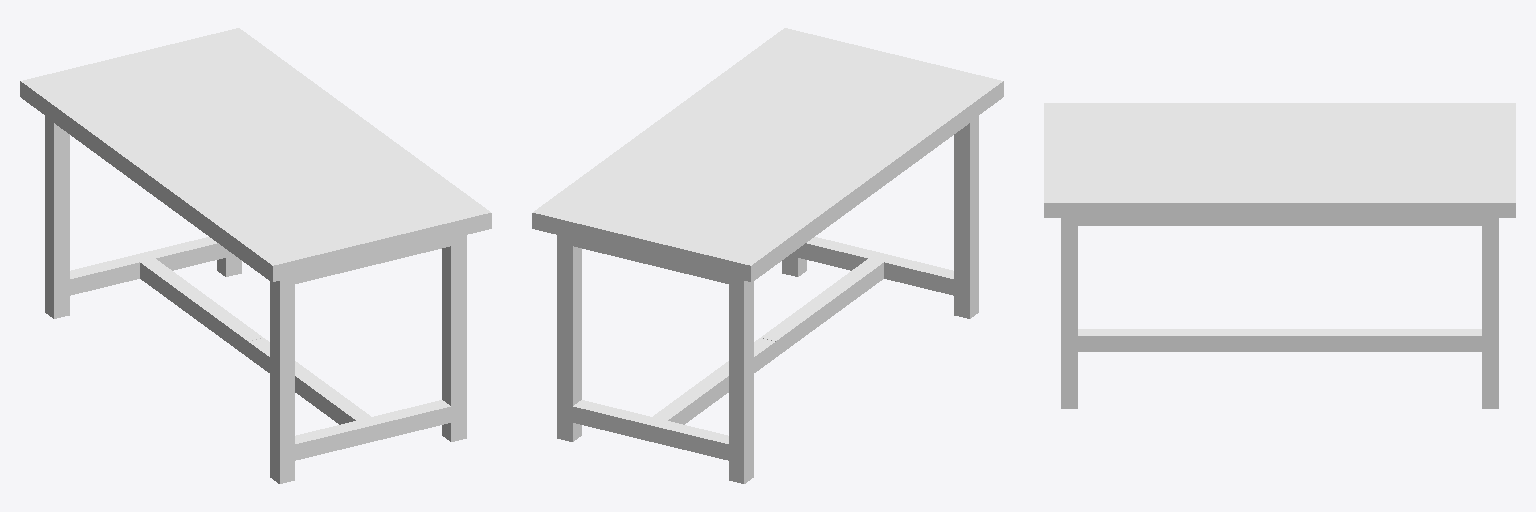
robot.urdf — lab_table:
<robot name="lab_table">
	<link name="world"/>

    <joint name="fixed" type="fixed">
        <parent link="world"/>
        <child link="base_link"/>
        <origin xyz="0 0 0"/>
    </joint>

	<link name="base_link">
		<contact>
			<lateral_friction value="1.0" />
		</contact>
		<visual>
			<origin xyz="0.0 0.0 0.0" rpy="0.0 0.0 0.0" />
			<geometry>
				<mesh filename="lab_table/lab_table.obj" scale="1 1 1" />
			</geometry>
			<material name="texture">
				<color rgba="1.0 1.0 1.0 1.0" />
			</material>
		</visual>
		<collision>
			<origin xyz="0.0 0.0 0.0" rpy="0.0 0.0 0.0" />
			<geometry>
				<mesh filename="lab_table/lab_table_vhacd.obj" scale="1 1 1" />
			</geometry>
		</collision>
		<inertial>
			<mass value="1.0" />
			<inertia ixx="1e-3" ixy="0.0" ixz="0.0" iyy="1e-3" iyz="0.0" izz="1e-3" />
		</inertial>
	</link>
</robot>

--- What the picture shows (computed from the rendered views, not written in the file) ---
The picture shows the robot from 3 angles, left to right: view 1: azimuth 30°, elevation 25°; view 2: azimuth 150°, elevation 25°; view 3: azimuth 270°, elevation 25°; orthographic projection.
Model lab_table with 2 links and 1 joints (1 fixed), rooted at world, posed every joint at zero.
Visible links, largest first — view 1: base_link; view 2: base_link; view 3: base_link.
Link boxes in pixels (box(x1,y1,x2,y2)): base_link: box(20, 28, 491, 483); base_link: box(532, 28, 1003, 483); base_link: box(1044, 103, 1515, 408).
Size in the robot's own frame: 0.7 by 1.4 by 0.7 metres.
Meshes: 1 distinct files referenced, 1 mesh visuals loaded (1 OBJ).